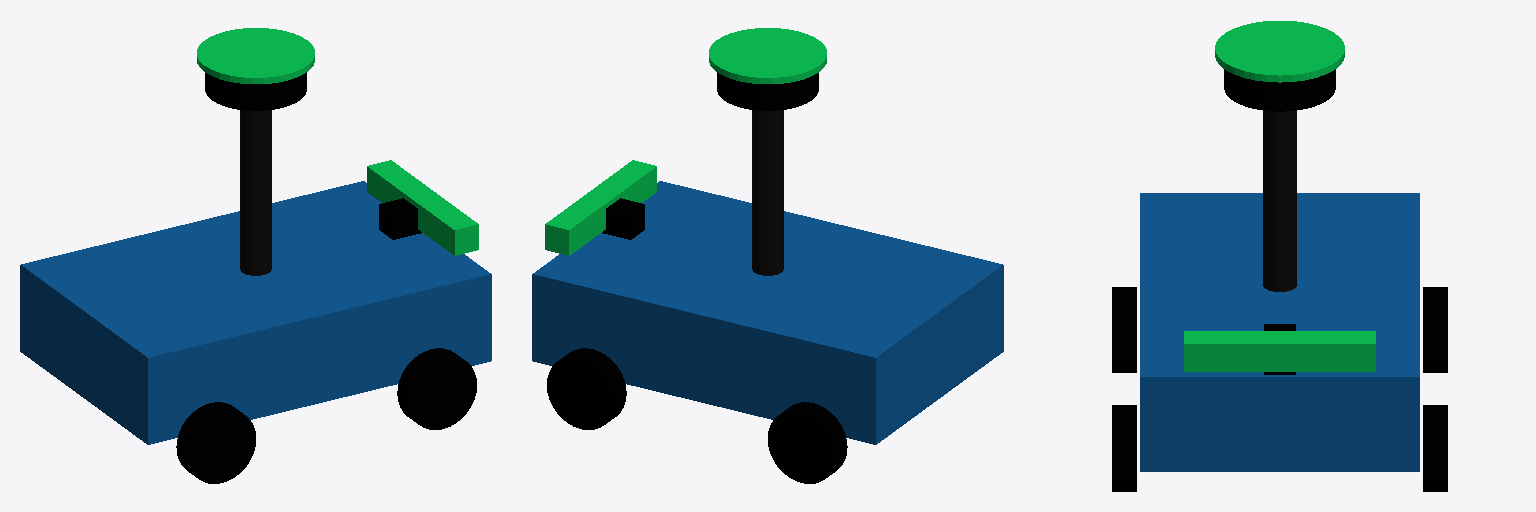
robot.urdf — gazebo_train_tf:
<?xml version="1.0"?>
<robot name="gazebo_train_tf">
  <material name="body_blue">
    <color rgba="0.08 0.38 0.62 1"/>
  </material>
  <material name="dark_gray">
    <color rgba="0.08 0.08 0.08 1"/>
  </material>
  <material name="black">
    <color rgba="0.01 0.01 0.01 1"/>
  </material>
  <material name="sensor_green">
    <color rgba="0.05 0.8 0.35 1"/>
  </material>

  <link name="base_footprint"/>

  <link name="base_link">
    <visual name="body">
      <origin xyz="0 0 0.25" rpy="0 0 0"/>
      <geometry>
        <box size="1.40 0.90 0.34"/>
      </geometry>
      <material name="body_blue"/>
    </visual>
    <visual name="front_sensor_bar">
      <origin xyz="0.68 0 0.50" rpy="0 0 0"/>
      <geometry>
        <box size="0.10 0.62 0.10"/>
      </geometry>
      <material name="sensor_green"/>
    </visual>
  </link>

  <joint name="base_joint" type="fixed">
    <parent link="base_footprint"/>
    <child link="base_link"/>
    <origin xyz="0 0 0.05" rpy="0 0 0"/>
  </joint>

  <link name="front_left_wheel">
    <visual>
      <origin xyz="0 0 0" rpy="1.5708 0 0"/>
      <geometry>
        <cylinder radius="0.14" length="0.08"/>
      </geometry>
      <material name="black"/>
    </visual>
  </link>
  <joint name="front_left_wheel_joint" type="fixed">
    <parent link="base_link"/>
    <child link="front_left_wheel"/>
    <origin xyz="0.45 0.50 0.05" rpy="0 0 0"/>
  </joint>

  <link name="front_right_wheel">
    <visual>
      <origin xyz="0 0 0" rpy="1.5708 0 0"/>
      <geometry>
        <cylinder radius="0.14" length="0.08"/>
      </geometry>
      <material name="black"/>
    </visual>
  </link>
  <joint name="front_right_wheel_joint" type="fixed">
    <parent link="base_link"/>
    <child link="front_right_wheel"/>
    <origin xyz="0.45 -0.50 0.05" rpy="0 0 0"/>
  </joint>

  <link name="rear_left_wheel">
    <visual>
      <origin xyz="0 0 0" rpy="1.5708 0 0"/>
      <geometry>
        <cylinder radius="0.14" length="0.08"/>
      </geometry>
      <material name="black"/>
    </visual>
  </link>
  <joint name="rear_left_wheel_joint" type="fixed">
    <parent link="base_link"/>
    <child link="rear_left_wheel"/>
    <origin xyz="-0.45 0.50 0.05" rpy="0 0 0"/>
  </joint>

  <link name="rear_right_wheel">
    <visual>
      <origin xyz="0 0 0" rpy="1.5708 0 0"/>
      <geometry>
        <cylinder radius="0.14" length="0.08"/>
      </geometry>
      <material name="black"/>
    </visual>
  </link>
  <joint name="rear_right_wheel_joint" type="fixed">
    <parent link="base_link"/>
    <child link="rear_right_wheel"/>
    <origin xyz="-0.45 -0.50 0.05" rpy="0 0 0"/>
  </joint>

  <link name="sensor_mast">
    <visual>
      <origin xyz="0 0 0" rpy="0 0 0"/>
      <geometry>
        <cylinder radius="0.055" length="0.72"/>
      </geometry>
      <material name="dark_gray"/>
    </visual>
  </link>
  <joint name="sensor_mast_joint" type="fixed">
    <parent link="base_link"/>
    <child link="sensor_mast"/>
    <origin xyz="0 0 0.76" rpy="0 0 0"/>
  </joint>

  <link name="laser_link">
    <visual name="lidar_body">
      <origin xyz="0 0 0" rpy="0 0 0"/>
      <geometry>
        <cylinder radius="0.18" length="0.12"/>
      </geometry>
      <material name="black"/>
    </visual>
    <visual name="lidar_ring">
      <origin xyz="0 0 0.07" rpy="0 0 0"/>
      <geometry>
        <cylinder radius="0.21" length="0.025"/>
      </geometry>
      <material name="sensor_green"/>
    </visual>
  </link>
  <joint name="lidar_joint" type="fixed">
    <parent link="sensor_mast"/>
    <child link="laser_link"/>
    <origin xyz="0 0 0.42" rpy="0 0 0"/>
  </joint>

  <link name="camera_link">
    <visual>
      <origin xyz="0 0 0" rpy="0 0 0"/>
      <geometry>
        <box size="0.18 0.10 0.10"/>
      </geometry>
      <material name="black"/>
    </visual>
  </link>
  <joint name="camera_joint" type="fixed">
    <parent link="base_link"/>
    <child link="camera_link"/>
    <origin xyz="0.62 0 0.48" rpy="0 0 0"/>
  </joint>

  <link name="camera_lens_link"/>
  <joint name="camera_rgb_joint" type="fixed">
    <parent link="camera_link"/>
    <child link="camera_lens_link"/>
    <origin xyz="0.10 0 0" rpy="0 0 0"/>
  </joint>

  <link name="imu_link"/>
  <joint name="imu_joint" type="fixed">
    <parent link="base_link"/>
    <child link="imu_link"/>
    <origin xyz="0 0 0.35" rpy="0 0 0"/>
  </joint>
</robot>

--- Render facts (derived) ---
3 views of the same robot in one strip: view 1: azimuth 30°, elevation 25°; view 2: azimuth 150°, elevation 25°; view 3: azimuth 270°, elevation 25° (orthographic).
Model gazebo_train_tf with 11 links and 10 joints (10 fixed), rooted at base_footprint, posed all joints at 0.
Visible links, largest first — view 1: base_link, laser_link, sensor_mast, front_right_wheel, rear_right_wheel, camera_link; view 2: base_link, laser_link, sensor_mast, front_left_wheel, rear_left_wheel, camera_link; view 3: base_link, laser_link, sensor_mast, front_left_wheel, front_right_wheel, rear_left_wheel, rear_right_wheel.
Boxes of the visible links, left/top/right/bottom form: base_link: left=20, top=160, right=491, bottom=444; laser_link: left=197, top=28, right=314, bottom=110; sensor_mast: left=240, top=110, right=271, bottom=275; front_right_wheel: left=397, top=348, right=476, bottom=429; rear_right_wheel: left=176, top=402, right=255, bottom=483; camera_link: left=379, top=198, right=421, bottom=239; base_link: left=532, top=160, right=1003, bottom=444; laser_link: left=709, top=28, right=826, bottom=110; sensor_mast: left=752, top=110, right=783, bottom=275; front_left_wheel: left=547, top=348, right=626, bottom=429; rear_left_wheel: left=768, top=402, right=847, bottom=483; camera_link: left=602, top=198, right=644, bottom=239; base_link: left=1140, top=193, right=1419, bottom=471; laser_link: left=1215, top=21, right=1344, bottom=111; sensor_mast: left=1263, top=111, right=1296, bottom=291; front_left_wheel: left=1423, top=405, right=1447, bottom=491; front_right_wheel: left=1112, top=405, right=1136, bottom=491; rear_left_wheel: left=1423, top=287, right=1447, bottom=372; rear_right_wheel: left=1112, top=287, right=1136, bottom=372.
Size in the robot's own frame: 1.43 by 1.08 by 1.35 metres.
Geometry: primitives only (box / cylinder / sphere), no mesh files.
